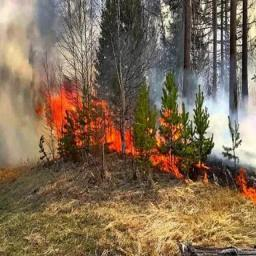Low smoke: (0, 1, 94, 95), (170, 72, 256, 160)
Medium fire: (47, 84, 256, 198)
